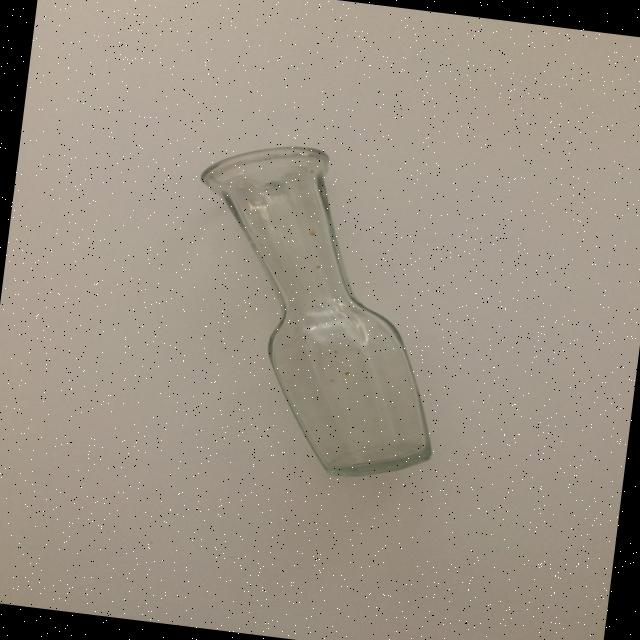glass: (165, 134, 468, 488)
